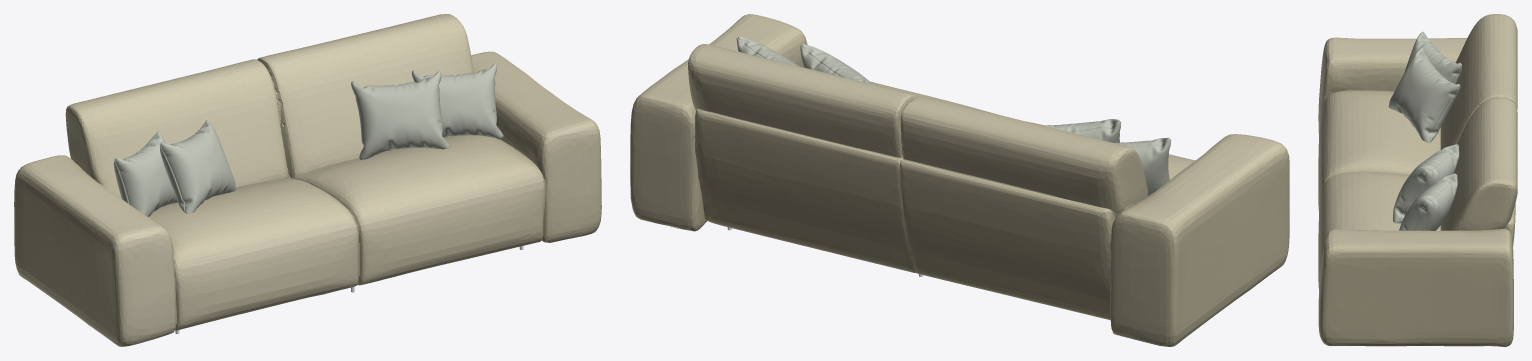
Rendered from Sofa_Redsofa_Auris_beige2.glb.
3 views of the same model, side by side, from view 1: azimuth 30°, elevation 25°; view 2: azimuth 150°, elevation 25°; view 3: azimuth 270°, elevation 25° (orthographic). The views are drawn at different scales.
Visible parts, largest first — view 1: geometry_0, Pillow 03.003, Pillow 03, Pillow 03.002, Pillow 03.001; view 2: geometry_0, Pillow 03.001, Pillow 03.003, Pillow 03, Pillow 03.002; view 3: geometry_0, Pillow 03, Pillow 03.002, Pillow 03.003, Pillow 03.001.
Part boxes in pixels (<box>): geometry_0: <box>14,14,601,346</box>; Pillow 03.003: <box>351,71,450,159</box>; Pillow 03: <box>160,120,235,213</box>; Pillow 03.002: <box>411,63,503,139</box>; Pillow 03.001: <box>113,131,177,216</box>; geometry_0: <box>630,14,1289,346</box>; Pillow 03.001: <box>1114,137,1171,195</box>; Pillow 03.003: <box>800,44,871,83</box>; Pillow 03: <box>1044,119,1121,142</box>; Pillow 03.002: <box>736,36,799,66</box>; geometry_0: <box>1318,14,1517,346</box>; Pillow 03: <box>1388,47,1460,142</box>; Pillow 03.002: <box>1399,173,1457,230</box>; Pillow 03.003: <box>1393,144,1459,223</box>; Pillow 03.001: <box>1404,31,1461,84</box>.
Bounding box in the file's own units: 2.6 × 0.8455 × 1.02.
4 materials, 1 textured.
